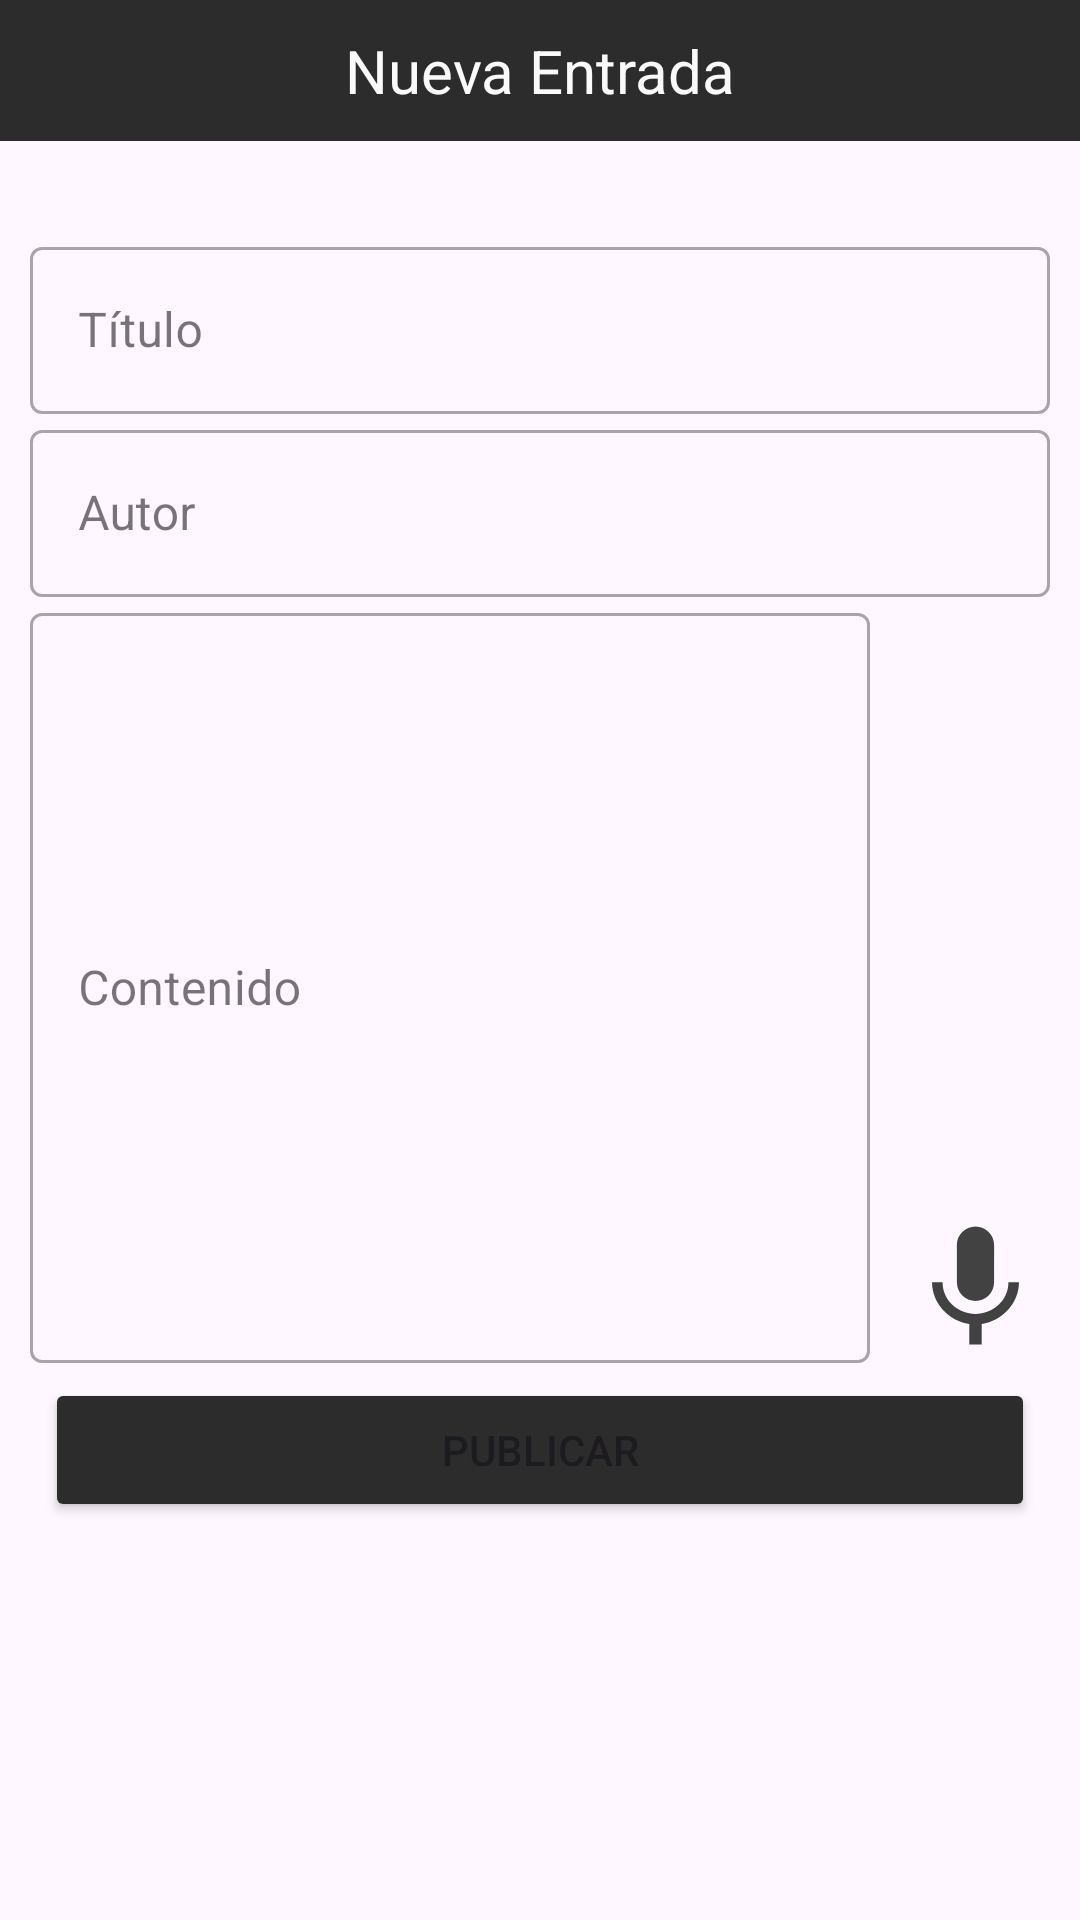

Locate icon controls on the screen. Image size 1080px×1920px, boxes as (x1,y1,x2,y2).
mic: (932,1226,1019,1345)
